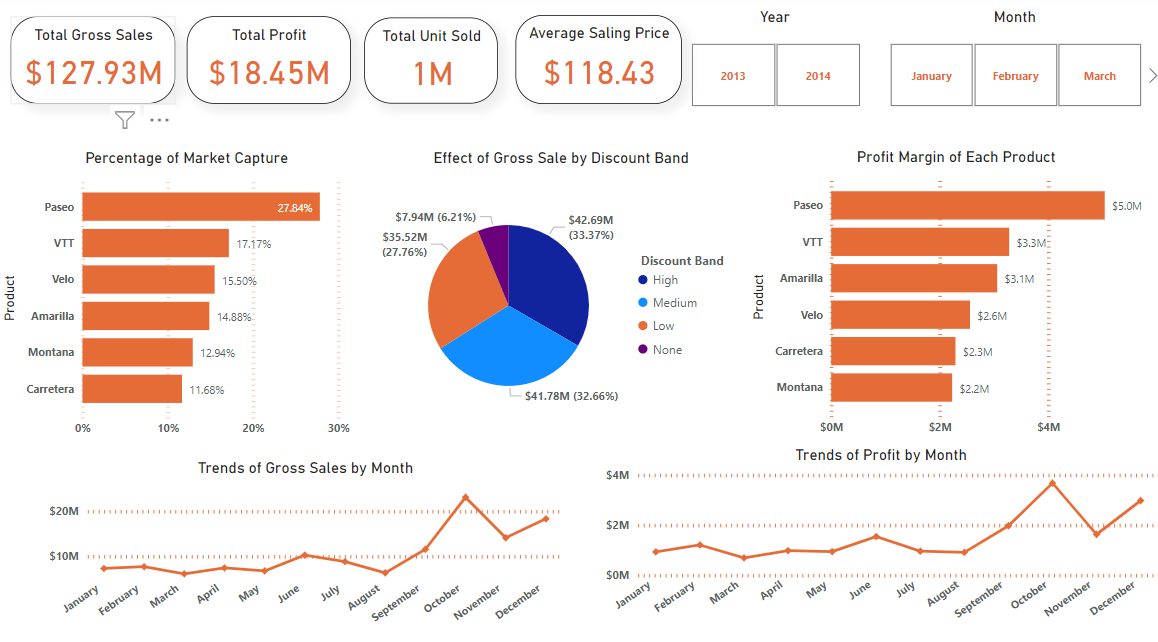

The page's visual inventory and layout, read from the dashboard file:
{"tool":"powerbi","page":{"name":"Page 1","canvas":[1280,720],"ordinal":0},"visuals":[{"type":"card","title":"Total Gross Sales","fields":{"Values":["Sum(Financials. Gross Sales )"]},"box":[13.7,23.3,181,96],"z":0},{"type":"slicer","title":"Month","fields":{"Values":["Financials.Date.Variation.Date Hierarchy.Month"]},"box":[952.9,13.7,324.9,115.2],"z":1000},{"type":"card","title":"Total Profit","fields":{"Values":["Sum(Financials. Profit )"]},"box":[207,23.3,179.6,96],"z":2000},{"type":"slicer","title":"Year","fields":{"Values":["Financials.Date.Variation.Date Hierarchy.Year"]},"box":[734.9,13.7,234.4,115.2],"z":3000},{"type":"card","title":"Total Unit Sold","fields":{"Values":["Sum(Financials. Units Sold )"]},"box":[401.7,24.7,146.7,94.6],"z":4000},{"type":"clusteredBarChart","title":"Percentage of Market Capture","fields":{"Category":["Financials. Product "],"Y":["Divide(Sum(Financials. Gross Sales ), ScopedEval(Sum(Financials. Gross Sales ), []))"]},"box":[0,168.6,414.1,324.9],"z":5000},{"type":"clusteredBarChart","title":"Profit Margin of Each Product","fields":{"Category":["Financials. Product "],"Y":["Sum(Financials. Profit )"]},"box":[821.3,167.3,459.3,324.9],"z":6000},{"type":"pieChart","title":"Effect of Gross Sale by Discount Band","fields":{"Category":["Financials. Discount Band "],"Y":["Sum(Financials. Gross Sales )"]},"box":[414.1,168.6,407.2,324.9],"z":7000},{"type":"lineChart","title":"Trends of  Gross Sales  by Month","fields":{"Y":["Sum(Financials. Gross Sales )"],"Category":["Financials.Date.Variation.Date Hierarchy.Month"]},"box":[50.7,508.7,573.1,191.9],"z":8000},{"type":"lineChart","title":"Trends of  Profit  by Month","fields":{"Y":["Sum(Financials. Profit )"],"Category":["Financials.Date.Variation.Date Hierarchy.Month"]},"box":[659.5,493.6,618.3,207],"z":9000},{"type":"card","title":"Average Saling Price","fields":{"Values":["Avg(Financials. Sale Price )"]},"box":[567.6,21.9,182.3,97.3],"z":10000}]}

Visuals, with their boxes in screenshot pixels (x1, y1, x2, y2), scaled from the page's 1280x720 canvas onto the 1158x642 screenshot:
"Total Gross Sales" card: box(12, 21, 176, 106)
"Month" slicer: box(862, 12, 1156, 115)
"Total Profit" card: box(187, 21, 350, 106)
"Year" slicer: box(665, 12, 877, 115)
"Total Unit Sold" card: box(363, 22, 496, 106)
"Percentage of Market Capture" clusteredBarChart: box(0, 150, 375, 440)
"Profit Margin of Each Product" clusteredBarChart: box(743, 149, 1157, 439)
"Effect of Gross Sale by Discount Band" pieChart: box(375, 150, 743, 440)
"Trends of  Gross Sales  by Month" lineChart: box(46, 454, 564, 625)
"Trends of  Profit  by Month" lineChart: box(597, 440, 1156, 625)
"Average Saling Price" card: box(514, 20, 678, 106)
